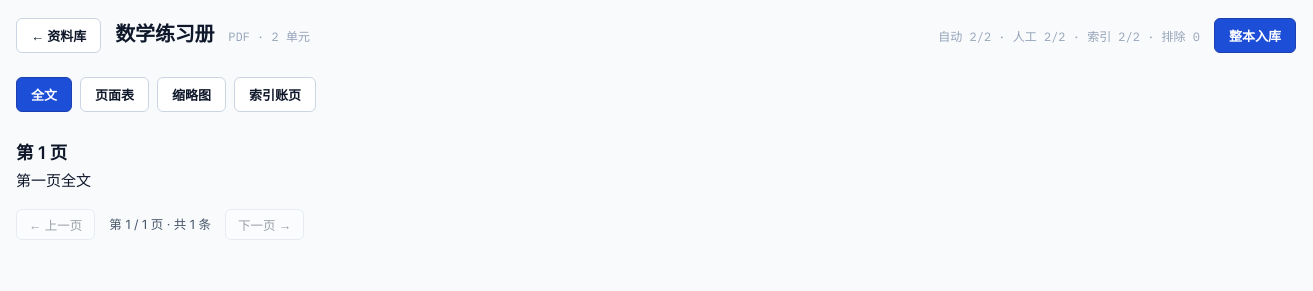
Test case: LibraryDetail whole-document ingestion › shows ingestion errors inside the detail view
Expected: the heading "数学练习册" is shown, 115,16 -> 214,50
Click the button "整本入库": (1255,36) 1214,18 -> 1296,53
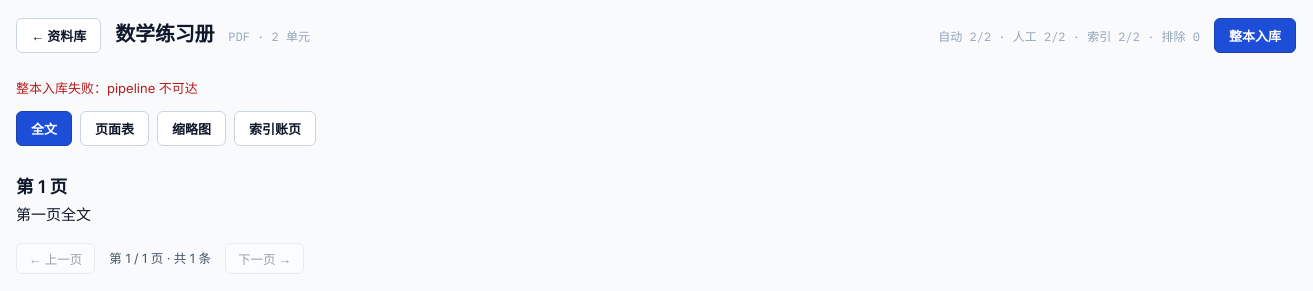
Now the message reads "整本入库失败：pipeline 不可达", box 16,80 -> 198,96
